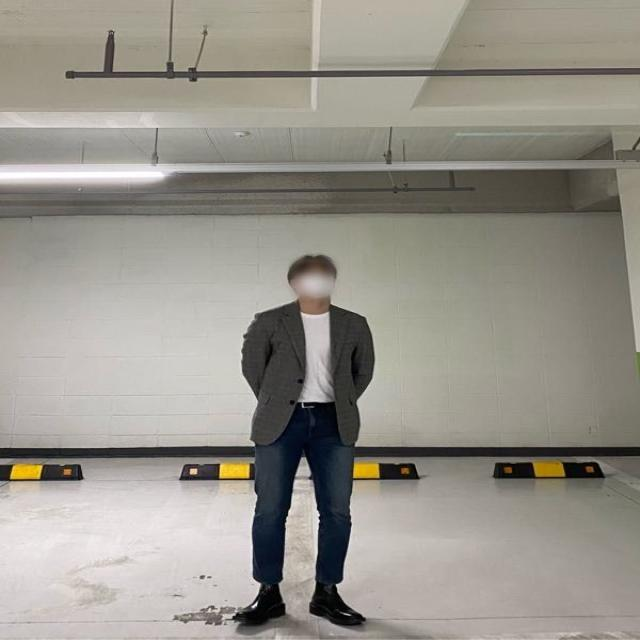blazer: (244, 299, 376, 444)
denimpants: (248, 400, 360, 588)
